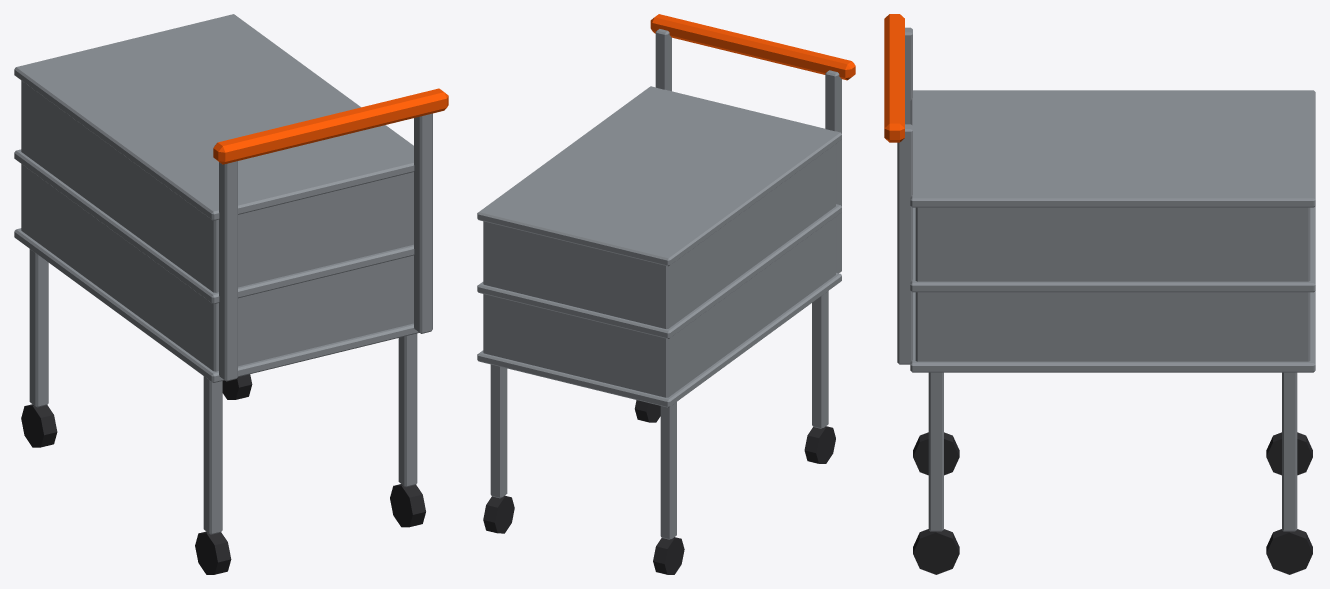
The model's file is shopping_trolley.fbx.
3 views of the same model, side by side, from view 1: azimuth 30°, elevation 25°; view 2: azimuth 150°, elevation 25°; view 3: azimuth 270°, elevation 25° (orthographic). The views are drawn at different scales.
Parts seen in each view (by area): view 1: Prop; view 2: Prop; view 3: Prop.
Boxes of the visible parts, bbox=[...] form: Prop: bbox=[14, 14, 448, 574]; Prop: bbox=[477, 14, 855, 574]; Prop: bbox=[884, 14, 1315, 574].
Size of the model in its own units: 0.52 by 0.83 by 0.965.
